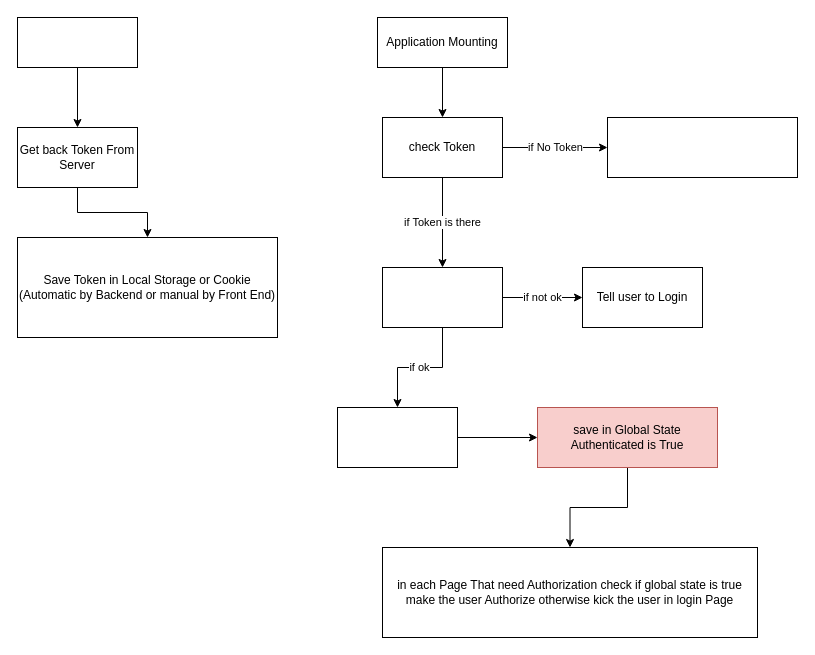
This 815x655 diagram has some shape labels left out. Each missing label, with the centre of its shape:
"keep user in login and signup mode at top of the page" belongs at point (702, 147).
"make Login ok" belongs at point (397, 437).
"send a request with Token to Server" belongs at point (442, 297).
"Send Login" belongs at point (77, 42).
